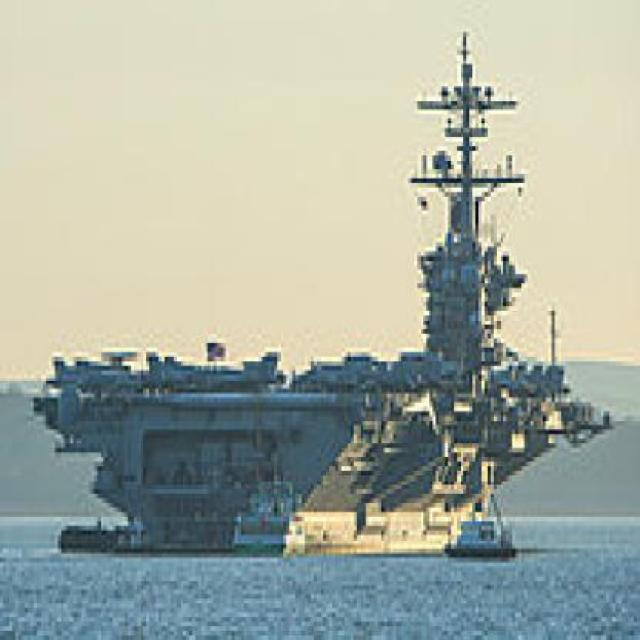warship2: (14, 14, 617, 573)
